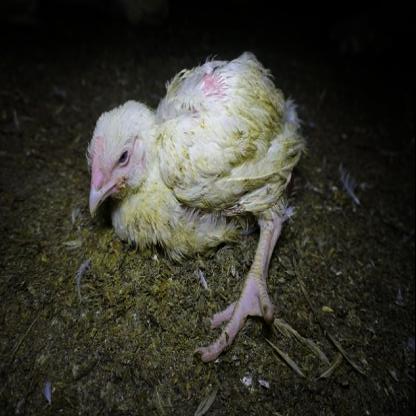Unhealthy: (72, 44, 308, 366)
